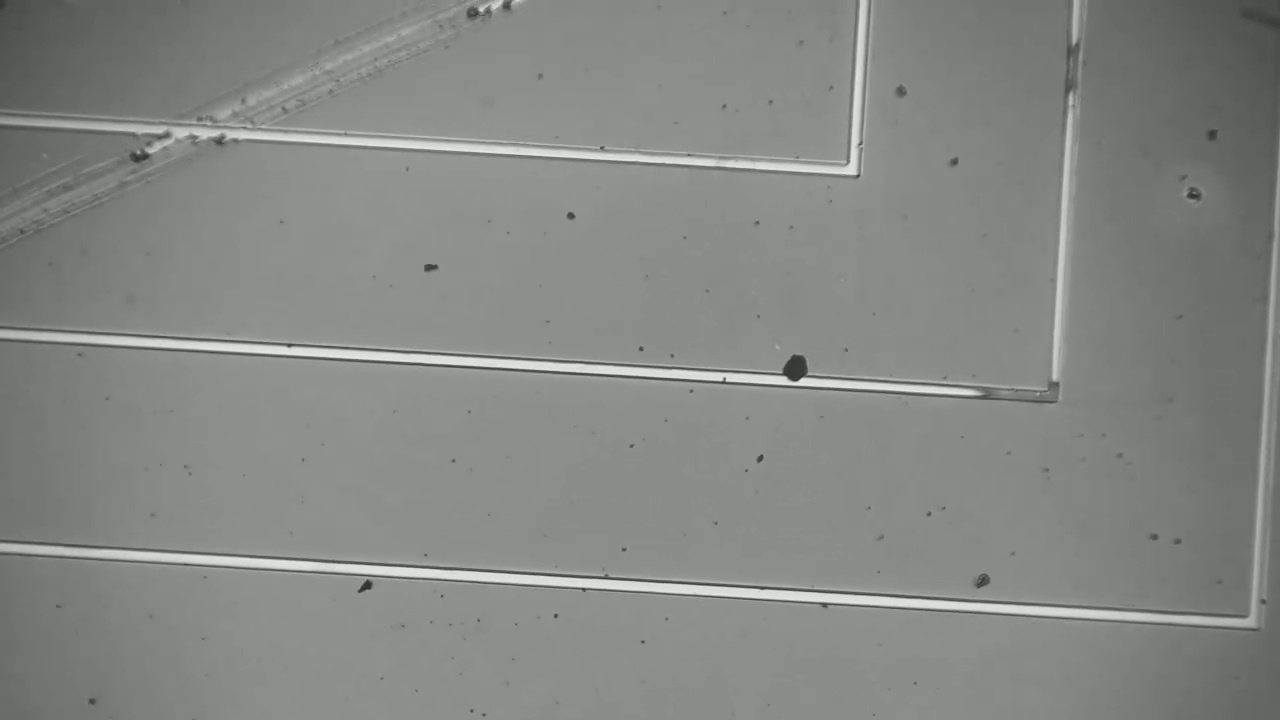edge_bite: (841, 136, 866, 153)
gray_line: (1054, 30, 1095, 108), (958, 379, 1074, 406), (1040, 362, 1070, 413)
scratch: (1, 10, 517, 240)
stains_enbedded: (771, 349, 826, 397)
